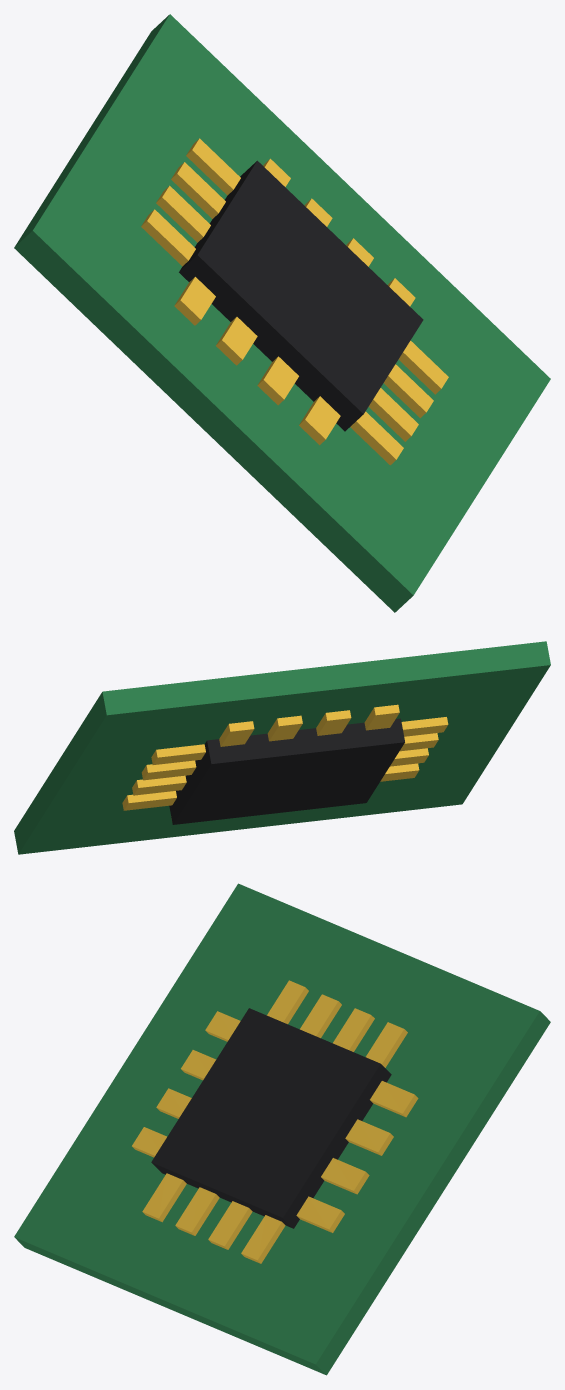
Rendered from electronics.glb.
The picture shows the model from 3 angles, top to bottom: view 1: azimuth 30°, elevation 25°; view 2: azimuth 150°, elevation 25°; view 3: azimuth 270°, elevation 25°; orthographic projection. The views are drawn at different scales.
Visible parts, largest first — view 1: electronics; view 2: electronics; view 3: electronics.
Boxes of the visible parts, box(x1,y1,x2,y2) form: electronics: box(14, 14, 550, 612); electronics: box(14, 641, 550, 854); electronics: box(14, 883, 550, 1375).
Bounding box in the file's own units: 1.38 × 0.7806 × 1.38.
